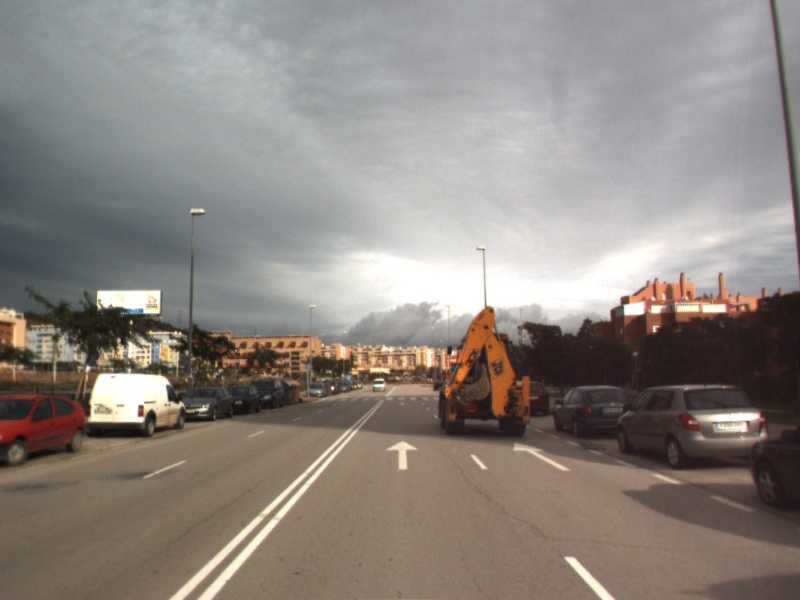STRAIGHT: (511, 440, 574, 473), (383, 439, 421, 471)
